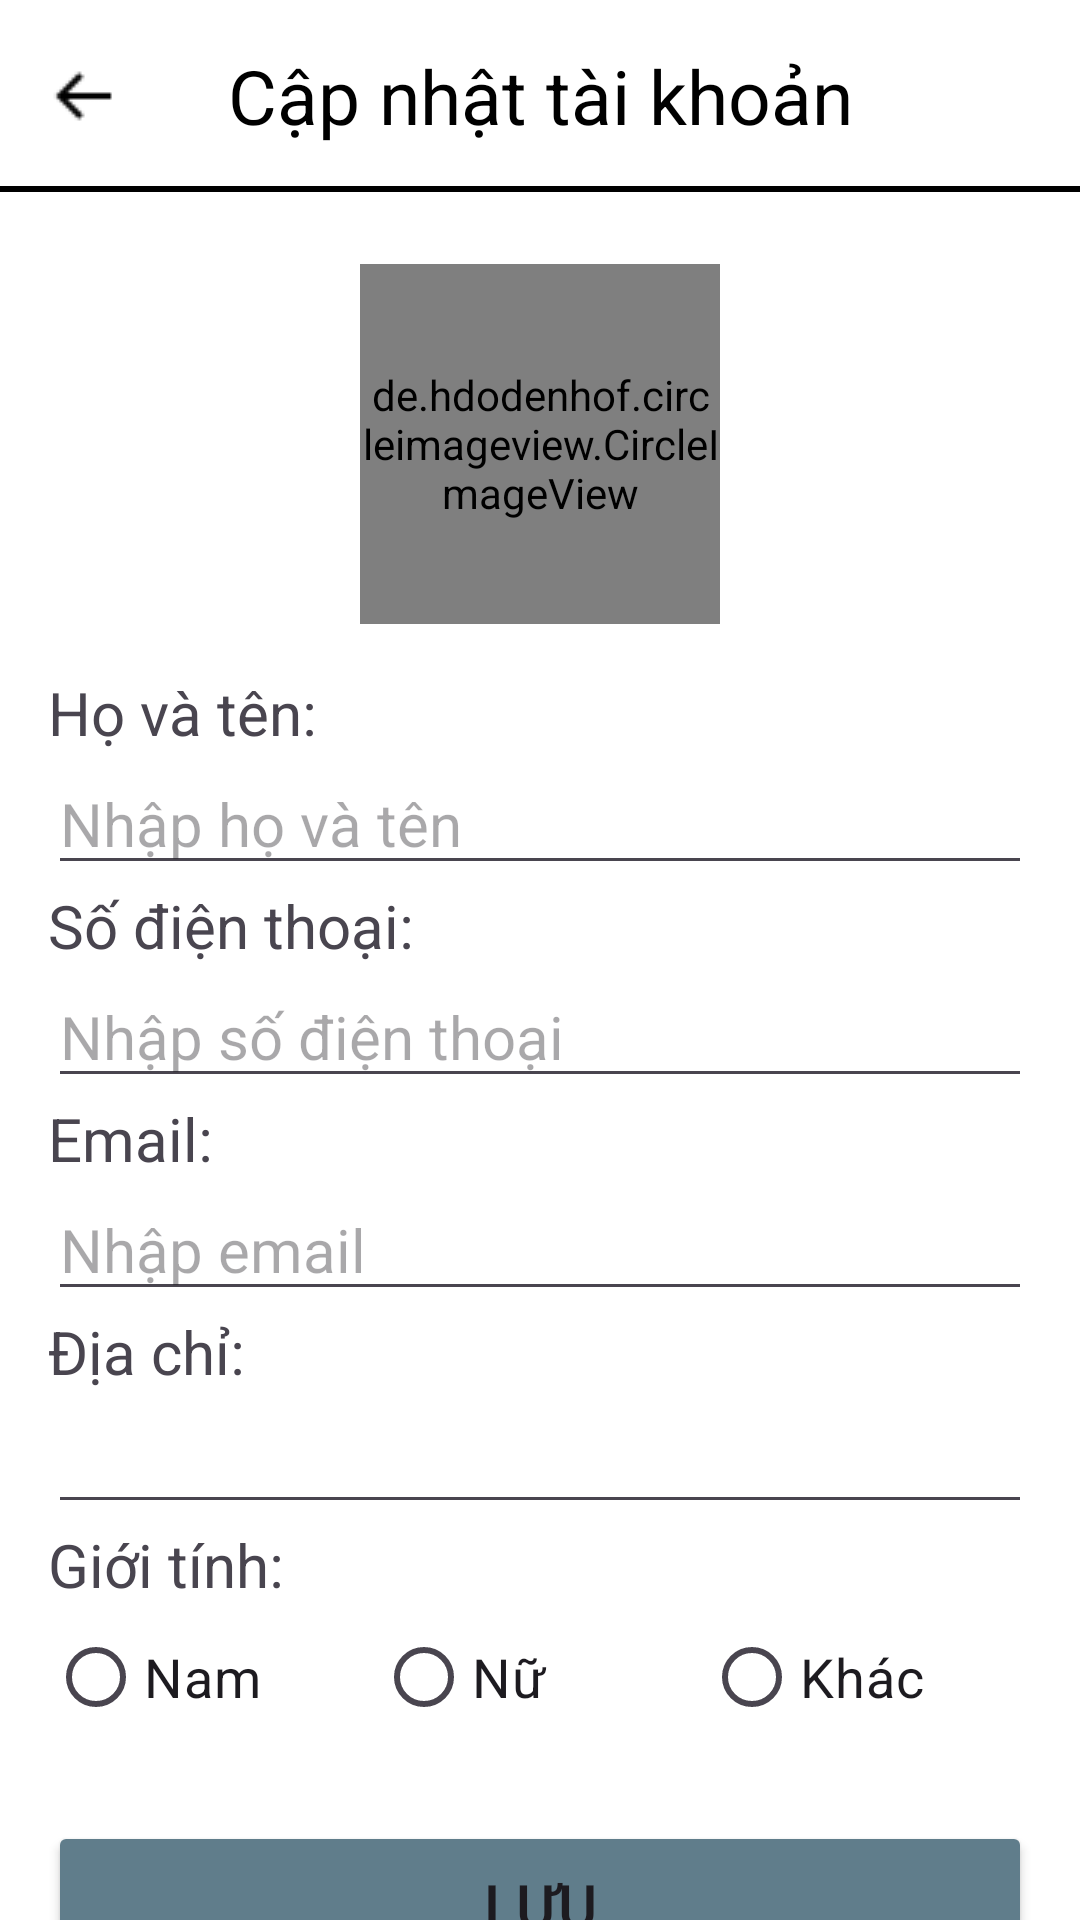

Where to tap for icons on this 1080*1920 app screen, as (x=x, y=y):
backicon: (x=84, y=96)
